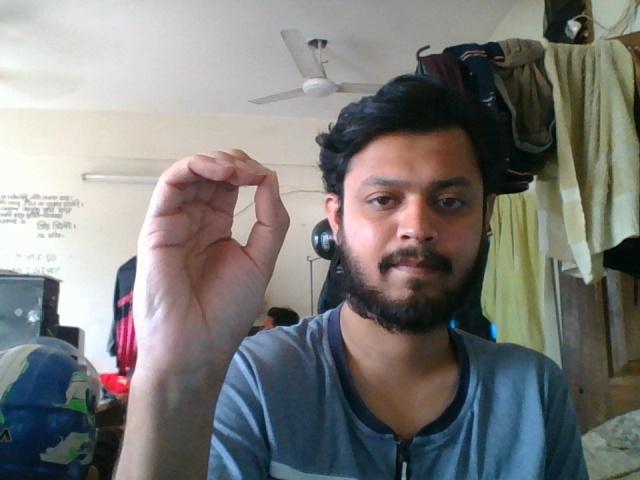oo: (131, 143, 299, 391)
